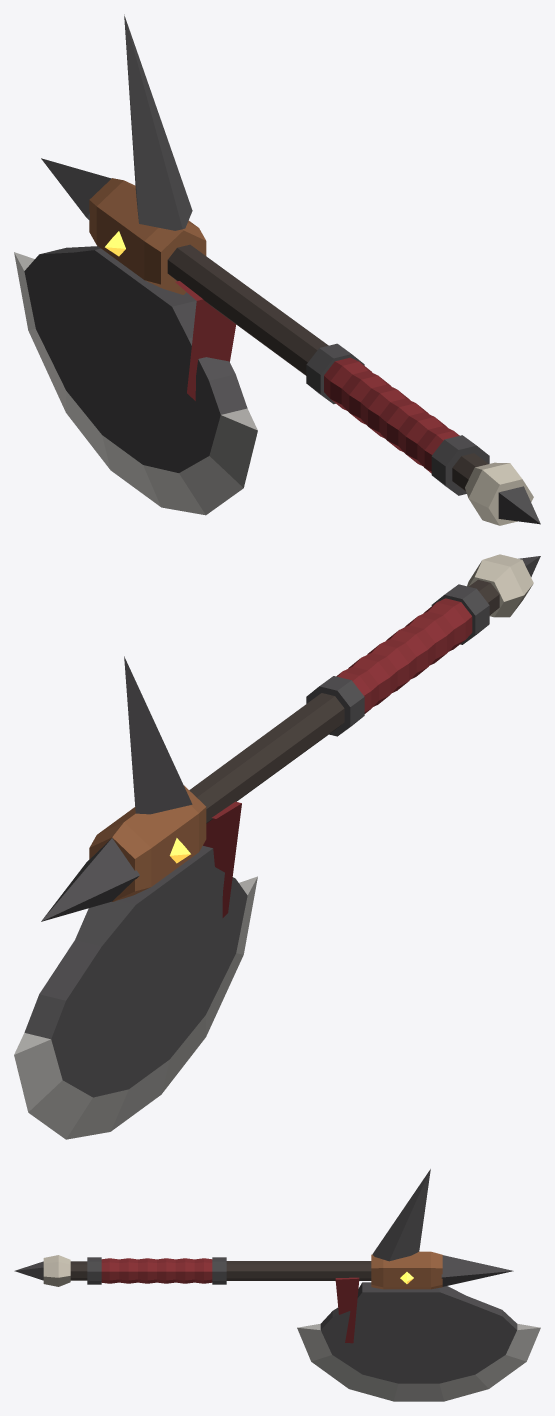
File: held-axe.glb
3 renders of one model, top to bottom at view 1: azimuth 30°, elevation 25°; view 2: azimuth 150°, elevation 25°; view 3: azimuth 270°, elevation 25°, orthographic. The views are drawn at different scales.
Visible parts, largest first — view 1: blade, haft, back_spike, grip_wrap, head_socket, rag, pommel, top_spike, collar_low, collar_high, pommel_spike; view 2: blade, haft, grip_wrap, head_socket, back_spike, top_spike, pommel, rag, collar_high, collar_low; view 3: blade, haft, grip_wrap, head_socket, back_spike, top_spike, rag, pommel, collar_high, collar_low, pommel_spike.
Boxes of the visible parts, box(x1,y1,x2,y2) form: blade: box(14, 246, 257, 515); haft: box(167, 244, 488, 491); back_spike: box(124, 14, 192, 230); grip_wrap: box(324, 357, 459, 473); head_socket: box(89, 178, 206, 294); rag: box(175, 281, 236, 400); pommel: box(465, 462, 533, 525); top_spike: box(41, 158, 111, 220); collar_low: box(431, 435, 489, 495); collar_high: box(306, 343, 364, 404); pommel_spike: box(498, 486, 540, 524); blade: box(14, 846, 257, 1139); haft: box(189, 579, 499, 823); grip_wrap: box(336, 598, 472, 713); head_socket: box(89, 785, 206, 901); back_spike: box(124, 656, 192, 814); top_spike: box(41, 838, 139, 921); pommel: box(467, 554, 533, 617); rag: box(203, 801, 241, 917); collar_high: box(306, 676, 364, 736); collar_low: box(431, 584, 489, 644); blade: box(297, 1282, 540, 1401); haft: box(70, 1261, 371, 1280); grip_wrap: box(101, 1258, 212, 1283); head_socket: box(371, 1251, 442, 1289); back_spike: box(372, 1169, 430, 1261); top_spike: box(441, 1255, 513, 1286); rag: box(335, 1277, 359, 1343); pommel: box(43, 1255, 70, 1286); collar_high: box(212, 1257, 226, 1284); collar_low: box(87, 1257, 101, 1284); pommel_spike: box(14, 1261, 43, 1280).
Size of what is drawn, in the model's own units: 0.084 by 0.4318 by 0.8849.
